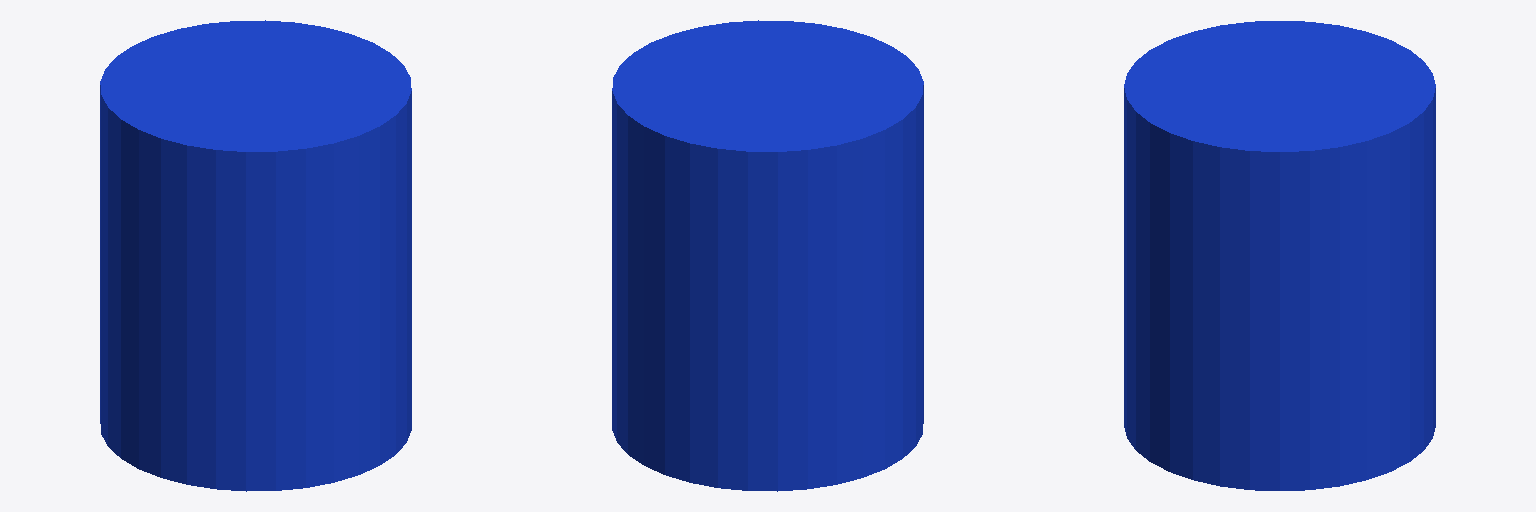
URDF robot description (blue_cylinder):
<?xml version="1.0"?>
<robot name="blue_cylinder">
  <link name="base_link">
    <contact>
      <lateral_friction value="0.9"/>
      <rolling_friction value="0.03"/>
      <spinning_friction value="0.03"/>
      <restitution value="0.0"/>
    </contact>
    <inertial>
      <origin rpy="0 0 0" xyz="0 0 0"/>
      <mass value="0.5"/>
      <inertia ixx="0.001" ixy="0" ixz="0" iyy="0.001" iyz="0" izz="0.001"/>
    </inertial>
    <visual>
      <origin rpy="0 0 0" xyz="0 0 0"/>
      <geometry>
        <cylinder radius="0.05" length="0.12"/>
      </geometry>
      <material name="blue">
        <color rgba="0.150 0.320 0.880 1.000"/>
      </material>
    </visual>
    <collision>
      <origin rpy="0 0 0" xyz="0 0 0"/>
      <geometry>
        <cylinder radius="0.05" length="0.12"/>
      </geometry>
    </collision>
  </link>
</robot>

--- Render facts (derived) ---
3 views of the same robot in one strip: view 1: azimuth 30°, elevation 25°; view 2: azimuth 150°, elevation 25°; view 3: azimuth 270°, elevation 25° (orthographic).
Model blue_cylinder with 1 links and 0 joints (none), rooted at base_link, posed all joints at 0.
Links seen in each view (by area): view 1: base_link; view 2: base_link; view 3: base_link.
Boxes of the visible links, bbox=[...] form: base_link: bbox=[100, 20, 411, 491]; base_link: bbox=[612, 20, 923, 491]; base_link: bbox=[1124, 21, 1435, 490].
Bounding box of the posed robot: 0.1 × 0.1 × 0.12 m (x, y, z).
Geometry: primitives only (box / cylinder / sphere), no mesh files.
